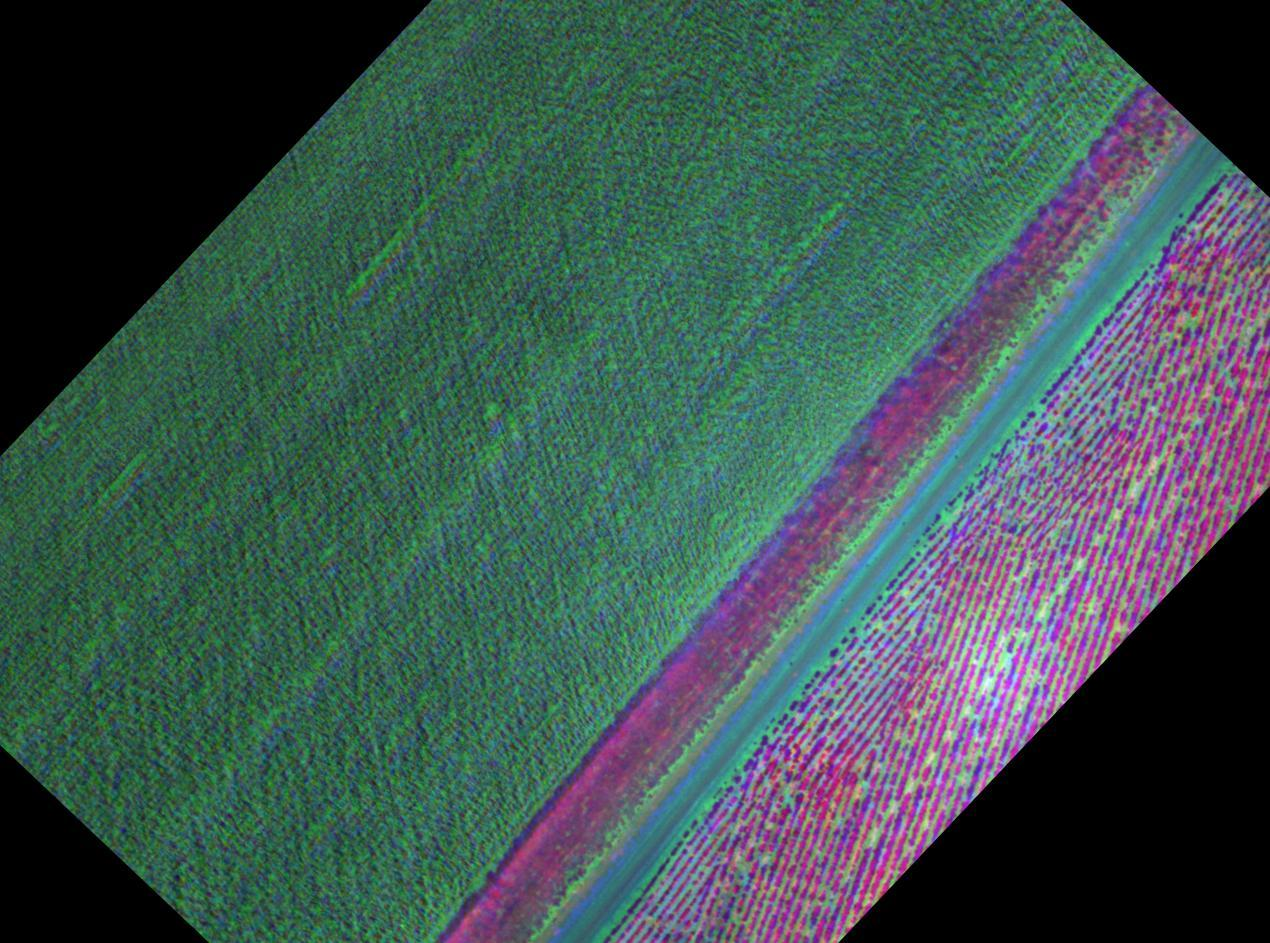dc: (926, 754, 937, 763), (869, 832, 878, 841), (1056, 585, 1065, 593)
